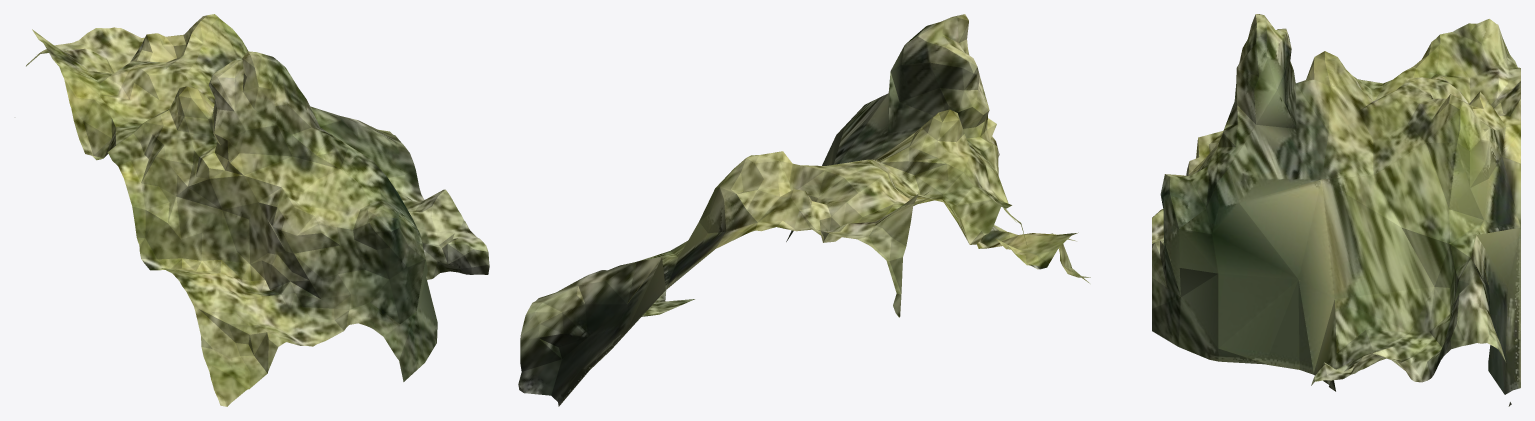
The picture shows the model from 3 angles, left to right: view 1: azimuth 30°, elevation 25°; view 2: azimuth 150°, elevation 25°; view 3: azimuth 270°, elevation 25°; orthographic projection. The views are drawn at different scales.
Size of the model in its own units: 5.9 by 4.87 by 5.9.
4 materials, 4 textured.
